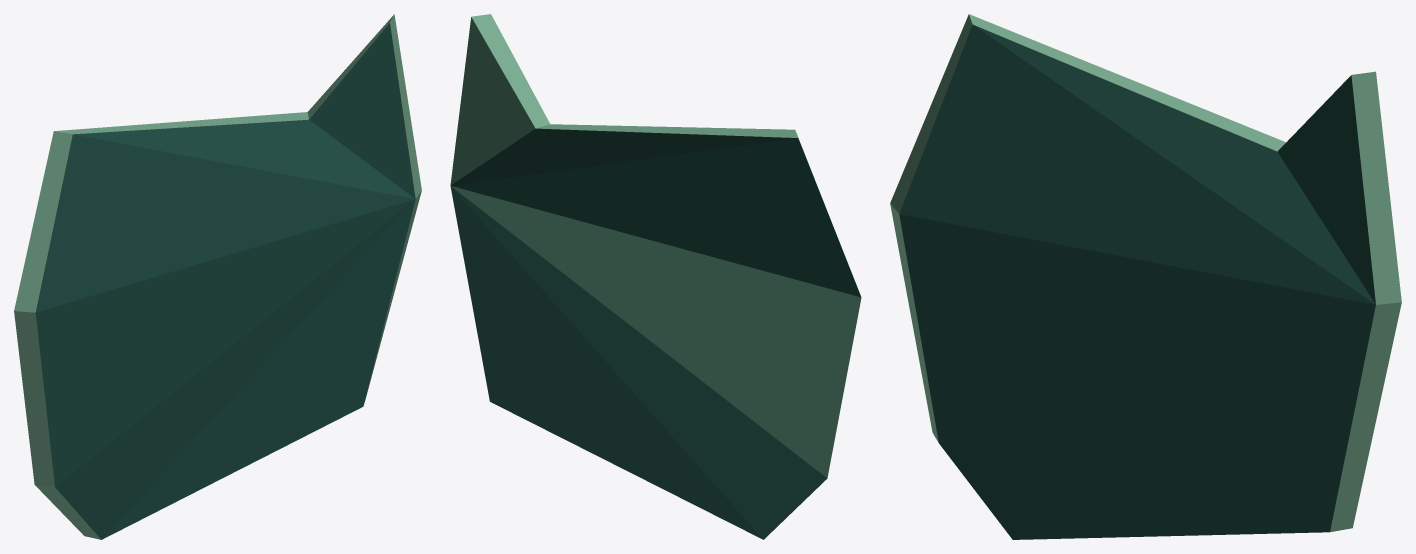
The model's file is gin_bottle_piece_back.glb.
3 views of the same model, side by side, from view 1: azimuth 30°, elevation 25°; view 2: azimuth 150°, elevation 25°; view 3: azimuth 330°, elevation 25° (orthographic). The views are drawn at different scales.
Visible parts, largest first — view 1: Curved solid jagged glass.010; view 2: Curved solid jagged glass.010; view 3: Curved solid jagged glass.010.
Part boxes in pixels (bbox=[...]): Curved solid jagged glass.010: bbox=[14, 14, 421, 539]; Curved solid jagged glass.010: bbox=[450, 14, 861, 539]; Curved solid jagged glass.010: bbox=[890, 14, 1401, 539].
Size of the model in its own units: 0.0747 by 0.0783 by 0.0081.
